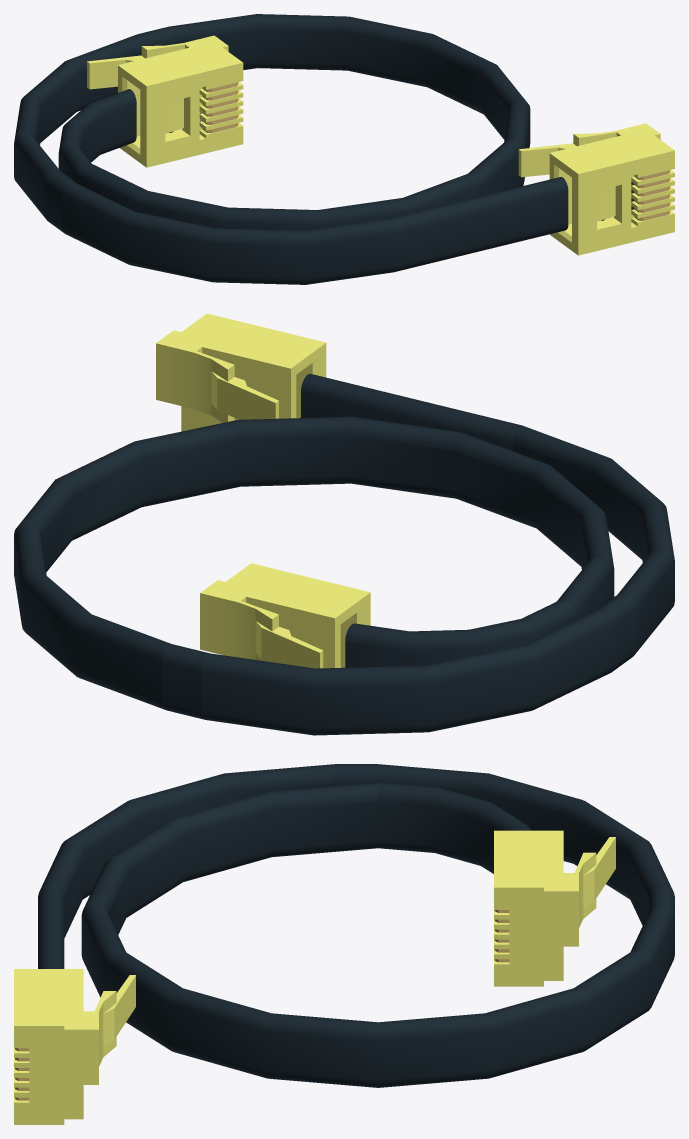
The picture shows the model from 3 angles, top to bottom: view 1: azimuth 30°, elevation 25°; view 2: azimuth 150°, elevation 25°; view 3: azimuth 270°, elevation 25°; orthographic projection. The views are drawn at different scales.
Parts seen in each view (by area): view 1: 11145.dat, 933.dat (×2), 932.dat (×3), 933c01.dat (×2); view 2: 11145.dat, 933.dat (×2), 932.dat (×3); view 3: 11145.dat, 933.dat (×2), 932.dat (×2).
Boxes of the visible parts, box(x1,y1,x2,y2) form: 11145.dat: box(14, 14, 530, 284); 933.dat (×2): box(87, 35, 674, 255); 932.dat (×3): box(44, 26, 568, 272); 933c01.dat (×2): box(169, 82, 669, 220); 11145.dat: box(14, 416, 674, 735); 933.dat (×2): box(156, 313, 370, 668); 932.dat (×3): box(162, 373, 636, 719); 11145.dat: box(39, 764, 674, 1087); 933.dat (×2): box(14, 830, 615, 1124); 932.dat (×2): box(38, 764, 378, 968).
Bounding box in the file's own units: 0.0624 × 0.01 × 0.0606.
